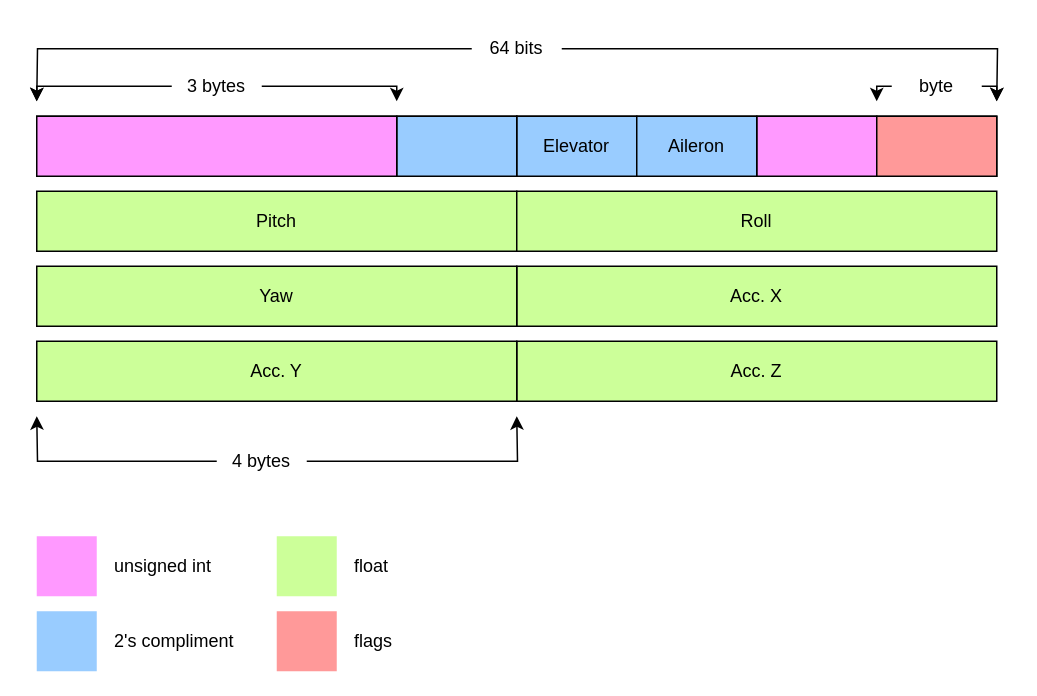
Some shapes in this 1037 by 696 pixel diagram are drawn without their labels. The centre of each missing label's shape, as x and y in pixels:
Motor: point (816, 145)
Rudder: point (456, 145)
State: point (936, 145)
Timestamp (ms): point (216, 145)
